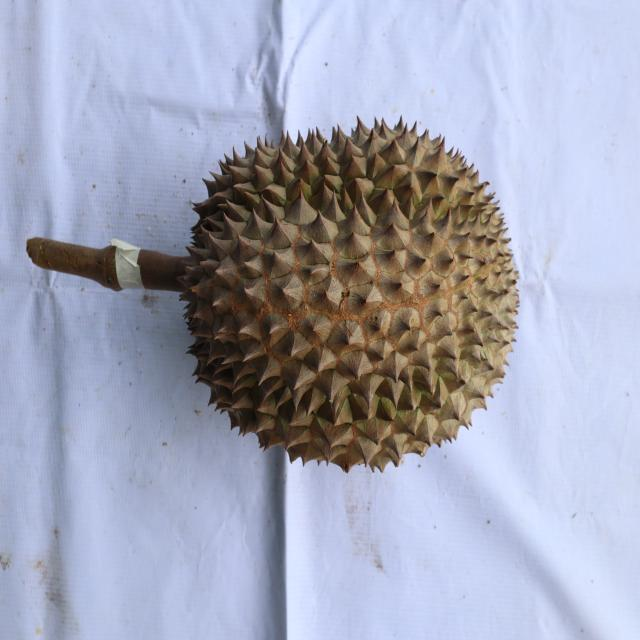mature: (176, 114, 522, 476)
